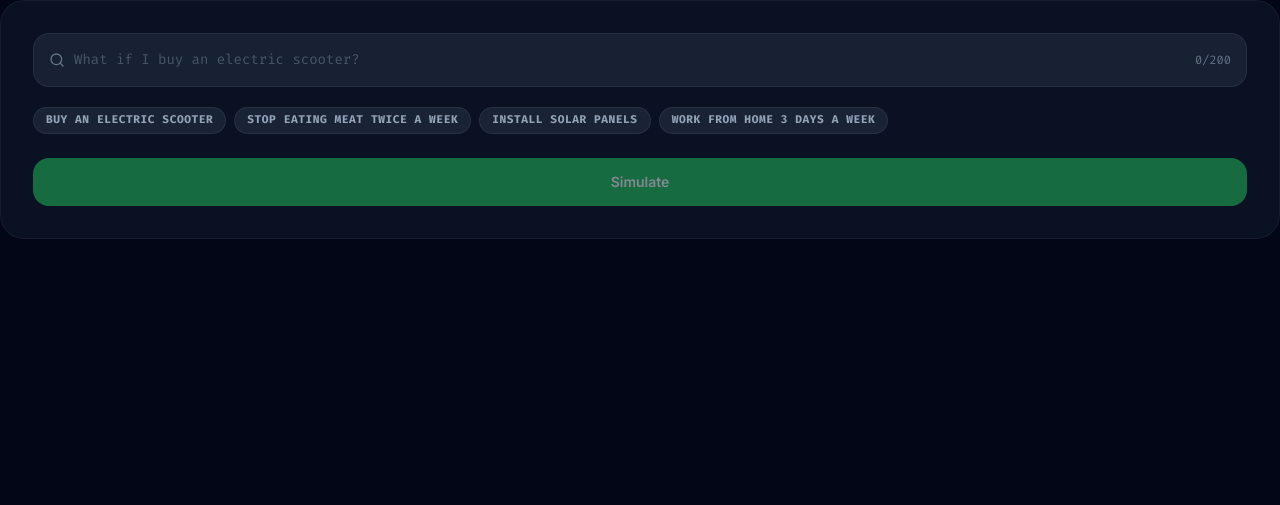
Test case: WhatIfForm › submits and shows result region
Type "What if I install solar panels?" into the field named "enter your what-if question" at (640, 60), box x1=33 y1=33 x2=1247 y2=87
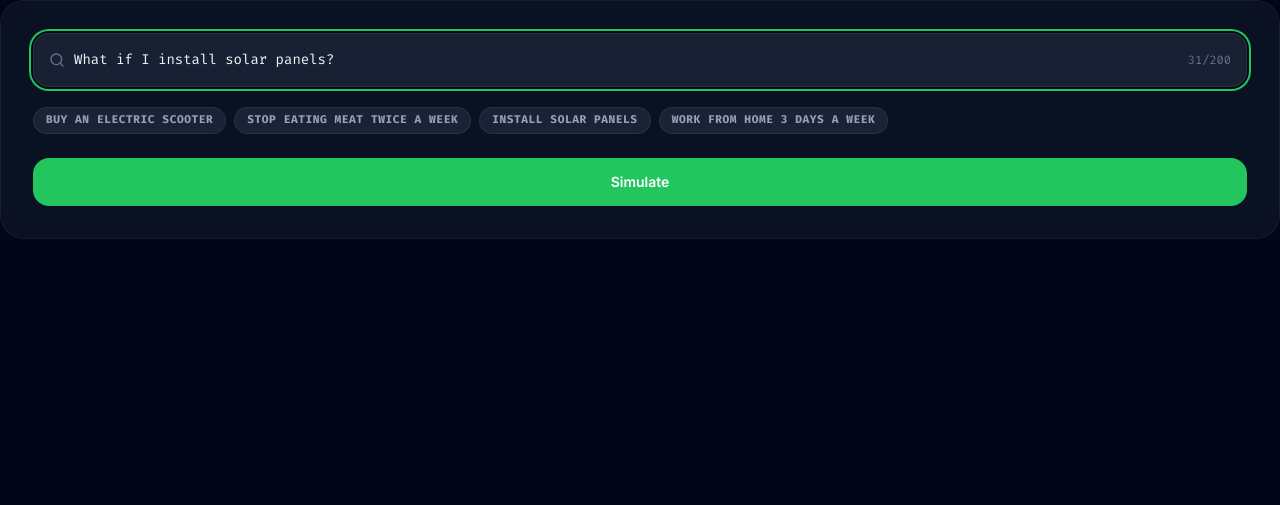
Click the button "Simulate" at (640, 182), box x1=33 y1=158 x2=1247 y2=206
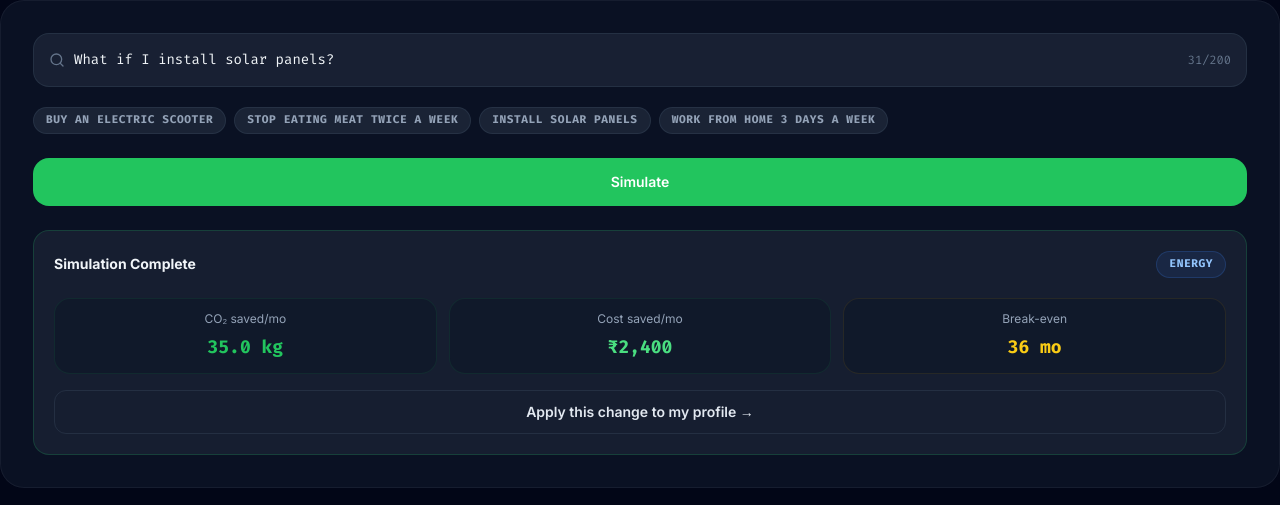
Check: the element named "simulation result" is shown, box x1=33 y1=230 x2=1247 y2=455
Check: the text "Simulation Complete" is shown, box x1=54 y1=254 x2=196 y2=274
